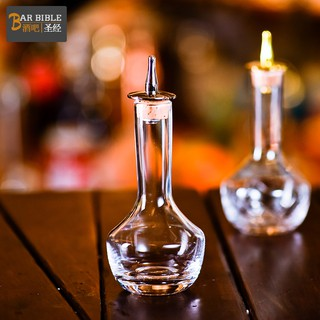glass_bottle: (105, 53, 207, 301)
